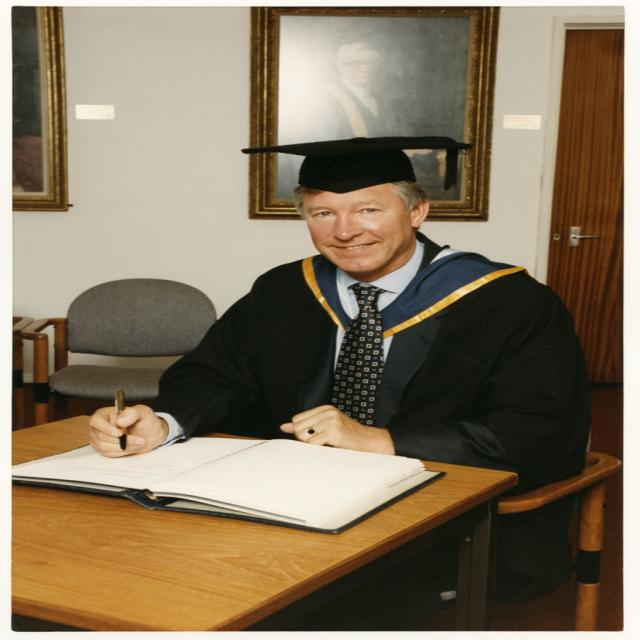chair: (30, 278, 219, 419), (482, 452, 622, 630)
desk: (0, 425, 556, 622)
person: (82, 111, 597, 621)
